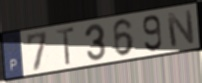3: (84, 22, 107, 62)
6: (111, 17, 136, 59)
7: (24, 29, 49, 72)
9: (142, 14, 163, 52)
N: (165, 8, 197, 49)
T: (54, 26, 76, 67)
